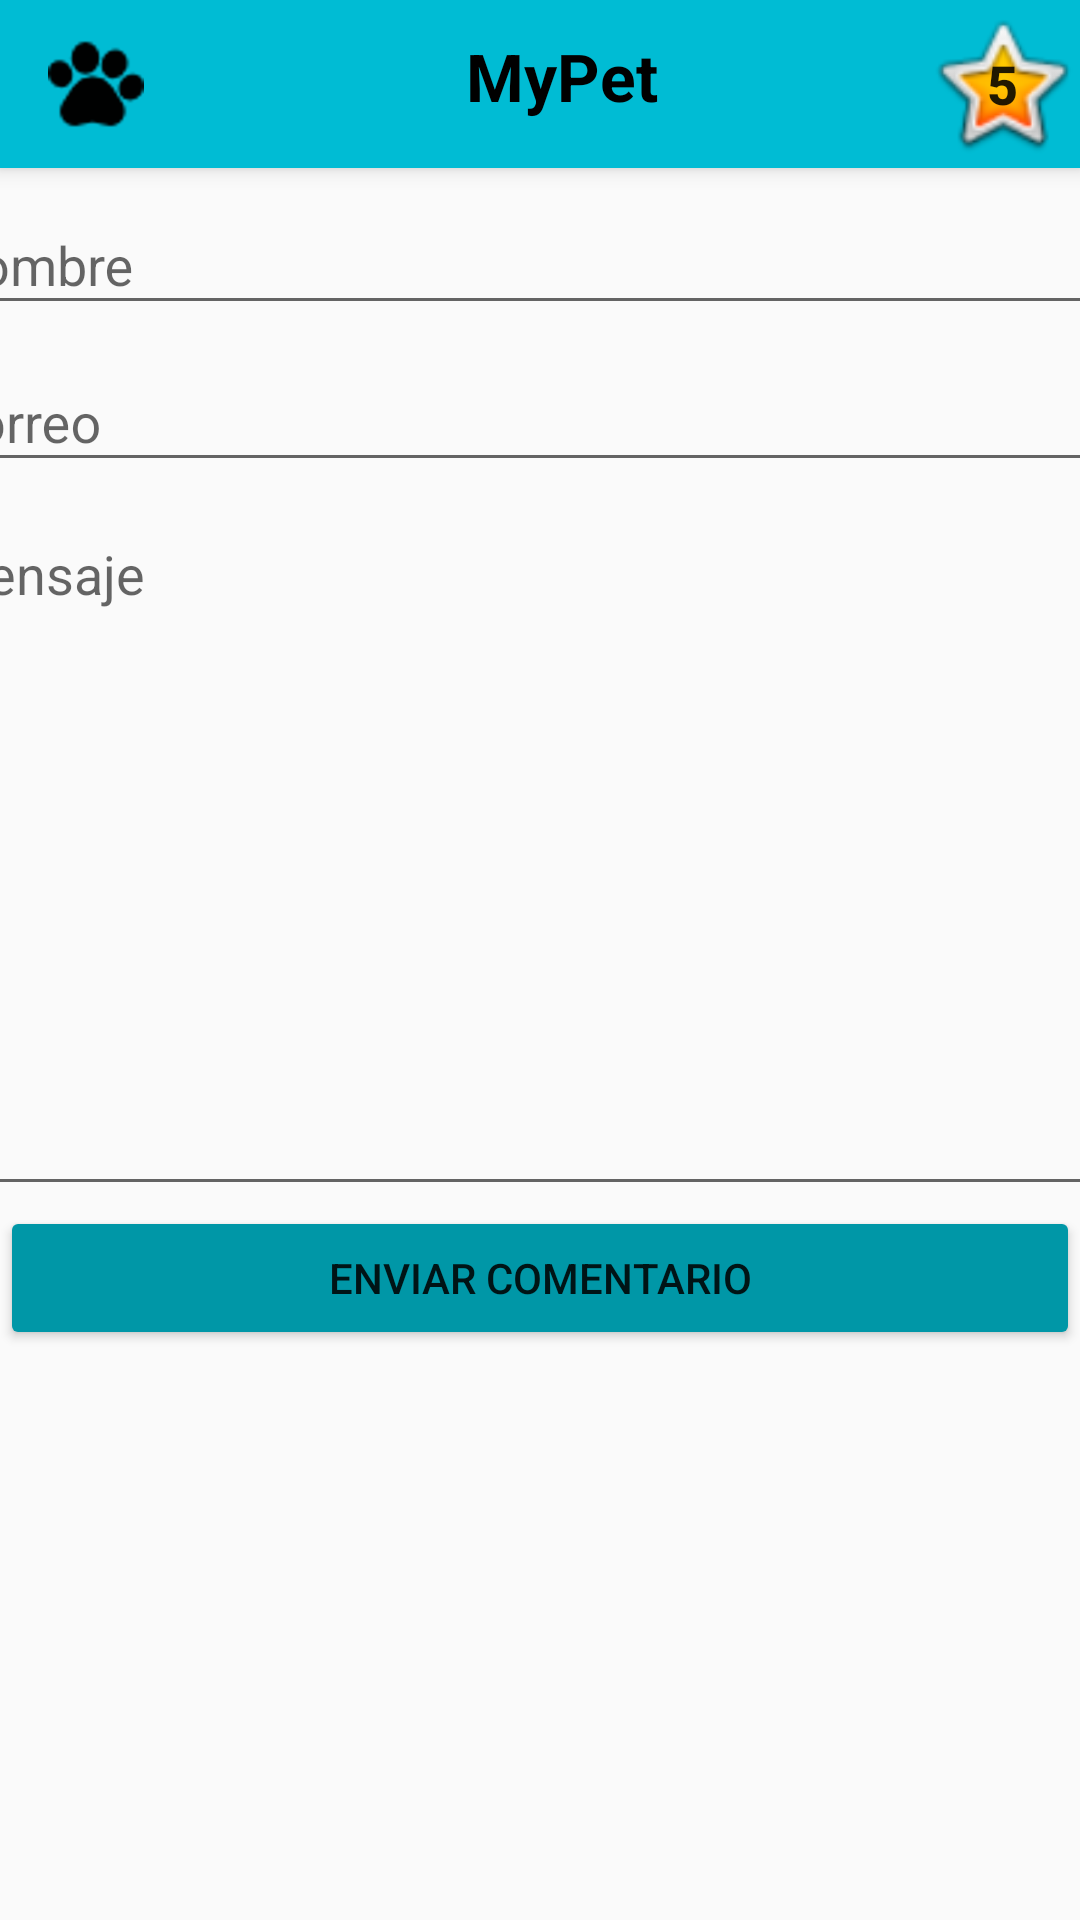

Icon click points for this 1080px×1920px phone screenshot, format (x,y):
huella mascota: (96,84)
